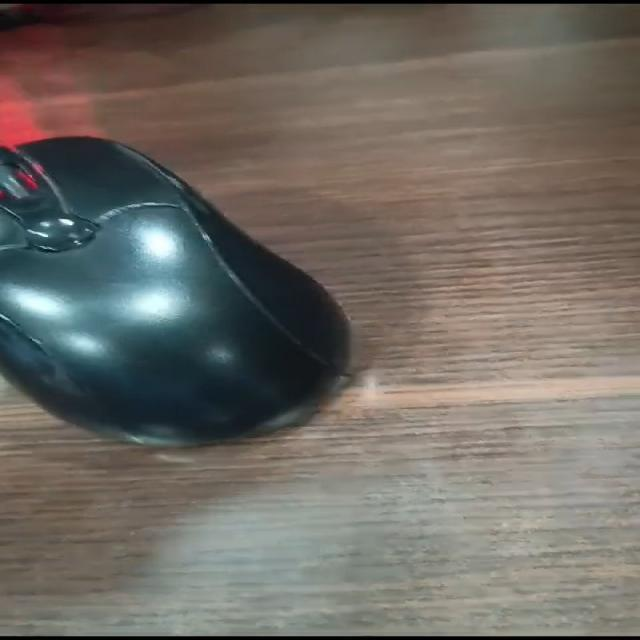mouse: (0, 82, 438, 495)
